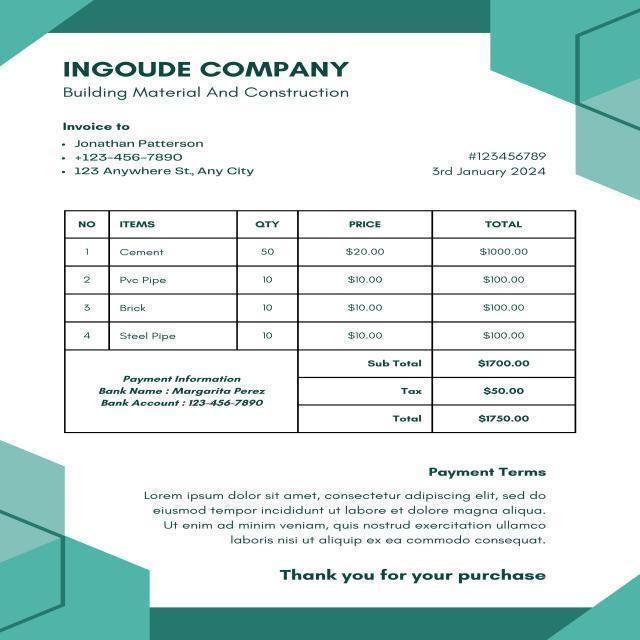ROI: (63, 203, 579, 348), (132, 464, 572, 549), (299, 351, 575, 434), (58, 55, 358, 101), (52, 121, 269, 182), (87, 364, 270, 418), (272, 562, 552, 596), (431, 142, 555, 181)
